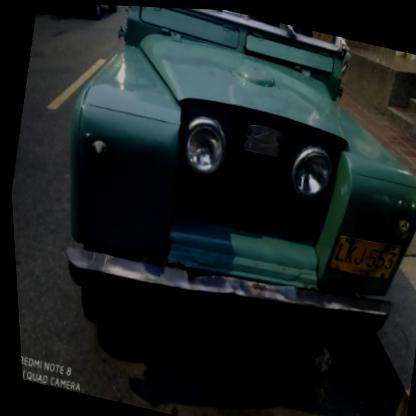placa: (324, 224, 401, 286)
